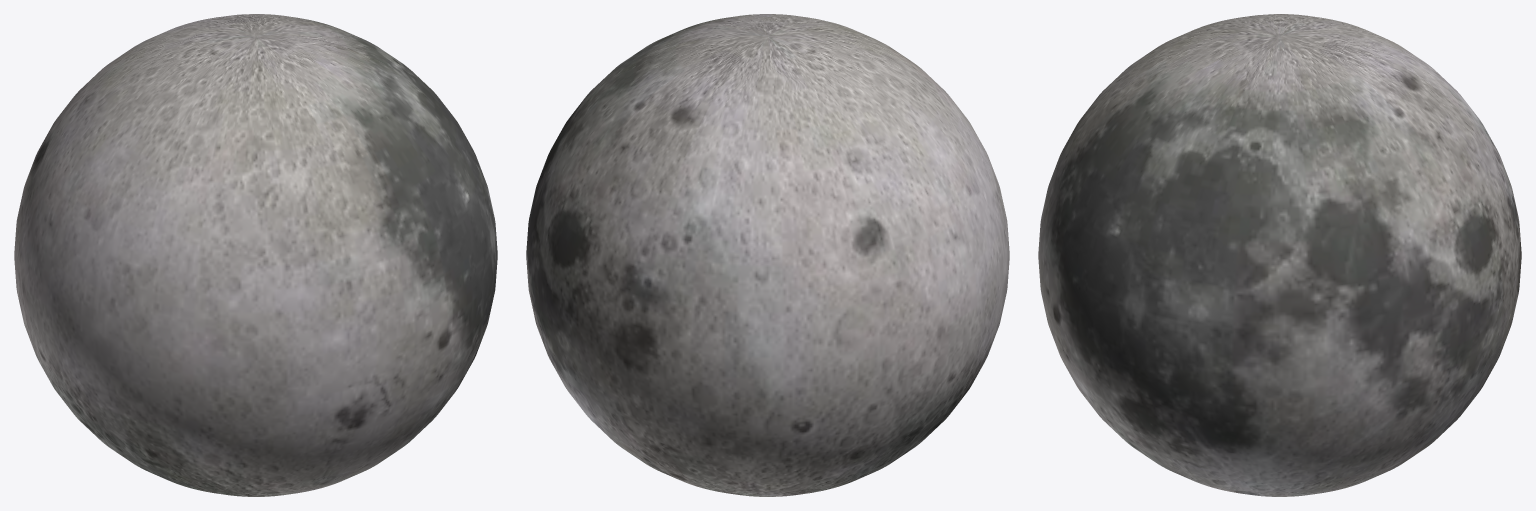
The model's file is moon.glb.
3 renders of one model, left to right at view 1: azimuth 30°, elevation 25°; view 2: azimuth 150°, elevation 25°; view 3: azimuth 270°, elevation 25°, orthographic.
Visible parts, largest first — view 1: Sphere_Material.002_0; view 2: Sphere_Material.002_0; view 3: Sphere_Material.002_0.
Boxes of the visible parts, left/top/right/bottom form: Sphere_Material.002_0: left=14, top=14, right=497, bottom=496; Sphere_Material.002_0: left=526, top=14, right=1009, bottom=496; Sphere_Material.002_0: left=1038, top=14, right=1521, bottom=496.
Size of the model in its own units: 200 by 200 by 200.
1 material, 1 textured.
